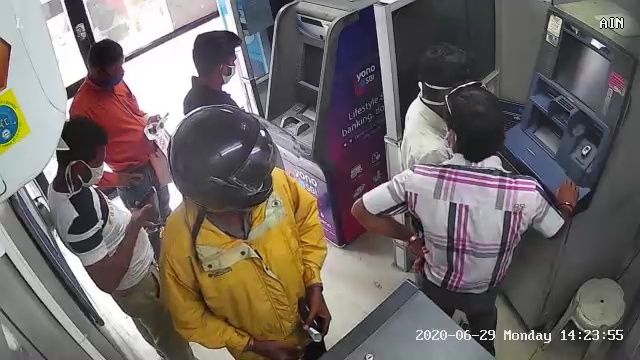helmet: (144, 103, 281, 221)
